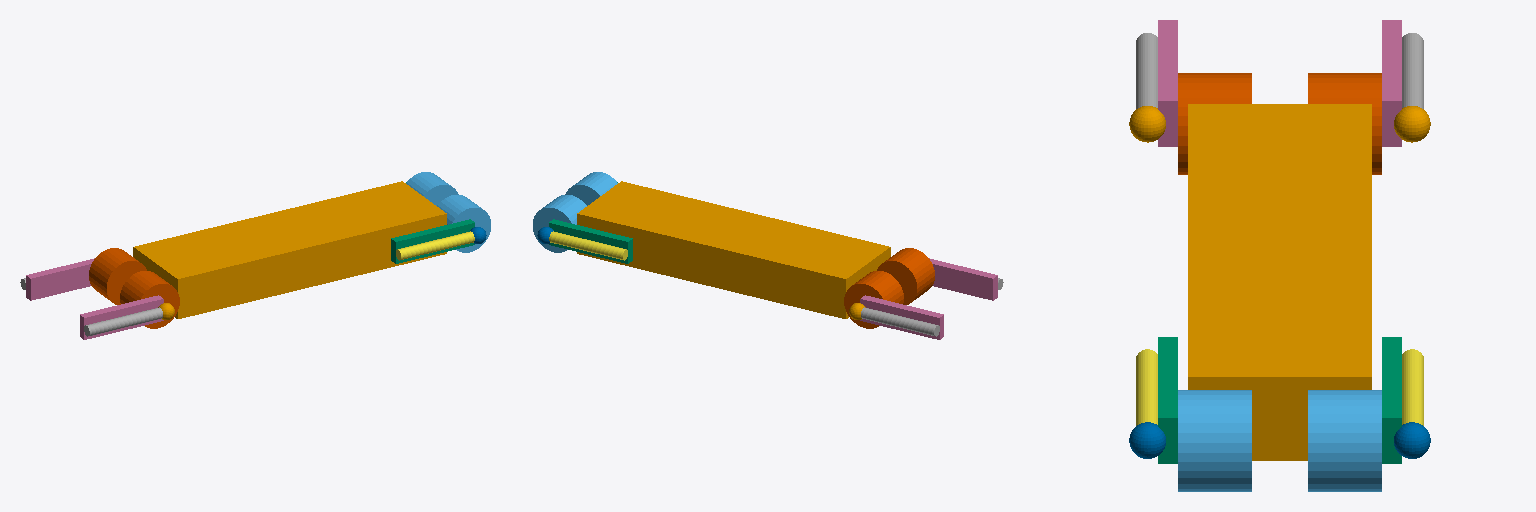
--- Render facts (derived) ---
Views: 3 orthographic renders of the robot side by side, from view 1: azimuth 30°, elevation 25°; view 2: azimuth 150°, elevation 25°; view 3: azimuth 270°, elevation 25°.
Robot: spirit — 18 links, 17 joints (12 revolute, 5 fixed); root link body; default pose: every joint at zero.
Visible links, largest first — view 1: body, hip1, upper1, hip3, upper2, upper3, hip2, hip0, lower3, lower2; view 2: body, hip3, upper3, hip1, upper0, upper1, hip0, hip2, lower1, lower0; view 3: body, hip0, hip2, hip1, hip3, upper0, upper1, upper2, upper3, lower0, lower1, lower2 (+5 smaller).
Link boxes in pixels (bbox=[...]): body: bbox=[133, 181, 446, 318]; hip1: bbox=[89, 248, 146, 304]; upper1: bbox=[26, 258, 94, 300]; hip3: bbox=[120, 271, 179, 328]; upper2: bbox=[391, 219, 474, 263]; upper3: bbox=[80, 295, 163, 339]; hip2: bbox=[437, 195, 490, 252]; hip0: bbox=[406, 172, 458, 205]; lower3: bbox=[84, 307, 162, 336]; lower2: bbox=[396, 231, 474, 260]; body: bbox=[577, 181, 890, 318]; hip3: bbox=[877, 248, 934, 304]; upper3: bbox=[929, 258, 997, 300]; hip1: bbox=[844, 271, 903, 328]; upper0: bbox=[549, 219, 632, 263]; upper1: bbox=[860, 295, 943, 339]; hip0: bbox=[533, 195, 586, 252]; hip2: bbox=[565, 172, 617, 205]; lower1: bbox=[861, 307, 939, 336]; lower0: bbox=[549, 231, 627, 260]; body: bbox=[1188, 104, 1371, 460]; hip0: bbox=[1308, 390, 1381, 491]; hip2: bbox=[1178, 390, 1251, 491]; hip1: bbox=[1308, 73, 1381, 174]; hip3: bbox=[1178, 73, 1251, 174]; upper0: bbox=[1382, 337, 1401, 463]; upper1: bbox=[1382, 20, 1401, 146]; upper2: bbox=[1158, 337, 1177, 463]; upper3: bbox=[1158, 20, 1177, 146]; lower0: bbox=[1402, 349, 1423, 425]; lower1: bbox=[1402, 33, 1423, 108]; lower2: bbox=[1136, 349, 1157, 425].
Bounding box of the posed robot: 1.07 × 0.326 × 0.11 m (x, y, z).
Geometry: primitives only (box / cylinder / sphere), no mesh files.

The robot description file, URDF, robot "spirit":
<?xml version="1.0" encoding="utf-8"?>
<robot name="spirit">
  <!-- Body -->
  <link name="body">
    <visual>
      <origin rpy="0 0 0" xyz="0 0 0"/>
      <geometry>
        <box size="0.7 0.2 0.1"/>
      </geometry>
      <material name="darkgray"/>
    </visual>
    <inertial>
      <mass value="5.75"/>
      <!-- Uniform box -->
      <!-- <inertia ixx="1/12*${bodyMass}*(${bodyWidth}*${bodyWidth} + ${bodyHeight}*${bodyHeight})"  ixy="0"  ixz="0" iyy="1/12*${bodyMass}*(${bodyLength}*${bodyLength} + ${bodyHeight}*${bodyHeight})" iyz="0" izz="1/12*${bodyMass}*(${bodyLength}*${bodyLength} + ${bodyWidth}*${bodyWidth})"/> -->
      <inertia ixx="0.05" ixy="0" ixz="0" iyy="0.1" iyz="0" izz="0.1"/>
    </inertial>
    <!-- Just copy geometry for collision -->
    <collision>
      <origin rpy="0 0 0" xyz="0 0 0"/>
      <geometry>
        <box size="0.7 0.2 0.1"/>
        <!-- <uri>model:///meshes/Spirit40_Body_Mesh_transformed.stl</uri> -->
      </geometry>
    </collision>
  </link>
  <gazebo reference="body">
    <material>Gazebo/Black</material>
    <gravity>true</gravity>
  </gazebo>
  <!-- Hip motor -->
  <link name="hip0">
    <visual>
      <origin rpy="1.5707963268 0 0" xyz="0 0.028 0"/>
      <geometry>
        <cylinder length="0.08" radius="0.055"/>
      </geometry>
    </visual>
    <collision>
      <origin rpy="1.5707963268 0 0" xyz="0 0.028 0"/>
      <geometry>
        Radius
					
        <!-- <cylinder length="${podLength}" radius="${podRadius}"/> -->
        <box size="0.11 0.11 0.08"/>
      </geometry>
    </collision>
    <inertial>
      <!-- <origin rpy="1.5707963268 0 0" xyz="0 0.028 0"/> -->
      <origin rpy="0 0 0" xyz="0 0.028 0"/>
      <mass value="0.575"/>
      <!-- <inertia ixx="1/12*${podMass}*${podLength}*${podLength} + 1/4*${podMass}*${podRadius}*${podRadius}"  ixy="0"  ixz="0" iyy="1/12*${podMass}*${podLength}*${podLength} + 1/4*${podMass}*${podRadius}*${podRadius}" iyz="0" izz="1/2*${podMass}*${podRadius}*$
				{podRadius}" /> -->
      <inertia ixx="0.00066963541" ixy="0" ixz="0" iyy="0.00066963541" iyz="0" izz="0.0008696875"/>
    </inertial>
  </link>
  <gazebo reference="hip0">
    <material>Gazebo/Grey</material>
  </gazebo>
  <!-- Upper leg -->
  <link name="upper0">
    <visual>
      <origin rpy="0 0 0" xyz="-0.103 -0.022 0"/>
      <geometry>
        <box size="0.206 0.022 0.055"/>
      </geometry>
      <material name="silver"/>
    </visual>
    <collision>
      <origin rpy="0 0 0" xyz="-0.103 -0.022 0"/>
      <geometry>
        <box size="0.206 0.022 0.055"/>
      </geometry>
    </collision>
    <inertial>
      <origin rpy="0 0 0" xyz="-0.103 -0.022 0"/>
      <mass value="0.775"/>
      <inertia ixx="5e-05" ixy="0" ixz="0" iyy="0.001" iyz="0" izz="0.001"/>
    </inertial>
  </link>
  <gazebo reference="upper0">
    <material>Gazebo/DarkGrey</material>
  </gazebo>
  <!-- Abduction joint. Joint names are: 8 9 10 11 -->
  <joint name="8" type="revolute">
    <parent link="body"/>
    <child link="hip0"/>
    <axis xyz="1 0 0"/>
    <origin xyz="0.405 0.042 0"/>
    <!-- <origin xyz="${front * dx} ${left * dy} 0"/> -->
    <!-- <origin xyz="${front *bodyLength/2+front * podRadius} ${left *bodyWidth/2} 0"/> -->
    <limit effort="40" lower="-0.707" upper="0.707" velocity="30"/>
    <dynamics damping="0.0" friction="0.0"/>
  </joint>
  <!-- Transmission elements required for Gazebo -->
  <transmission name="transmission_8">
    <type>transmission_interface/SimpleTransmission</type>
    <joint name="8">
      <hardwareInterface>hardware_interface/EffortJointInterface</hardwareInterface>
    </joint>
    <actuator name="motor_8">
      <hardwareInterface>EffortJointInterface</hardwareInterface>
      <mechanicalReduction>1</mechanicalReduction>
    </actuator>
  </transmission>
  <!-- Hip joint. (Motor to upper leg). Joint names are: 0 2 4 6 -->
  <joint name="0" type="revolute">
    <parent link="hip0"/>
    <child link="upper0"/>
    <axis xyz="0 -1 0"/>
    <origin xyz="0 0.10098 0"/>
    <!--  rpy="0 -0.3 0" -->
    <limit effort="40" lower="-6.28318530718" upper="6.28318530718" velocity="30"/>
    <dynamics damping="0.0" friction="0.0"/>
  </joint>
  <!-- Transmission elements required for Gazebo -->
  <transmission name="transmission_0">
    <type>transmission_interface/SimpleTransmission</type>
    <joint name="0">
      <hardwareInterface>hardware_interface/EffortJointInterface</hardwareInterface>
    </joint>
    <actuator name="motor_0">
      <hardwareInterface>EffortJointInterface</hardwareInterface>
      <mechanicalReduction>1</mechanicalReduction>
    </actuator>
  </transmission>
  <!-- Lower leg -->
  <link name="lower0">
    <visual>
      <origin rpy="0 1.5707963268 0" xyz="0.103 0 0"/>
      <geometry>
        <cylinder length="0.206" radius="0.013"/>
      </geometry>
      <material name="darkgray"/>
    </visual>
    <collision>
      <origin rpy="0 1.5707963268 0" xyz="0.103 0 0"/>
      <geometry>
        <cylinder length="0.206" radius="0.013"/>
      </geometry>
    </collision>
    <inertial>
      <!-- <origin rpy="0 1.5707963268 0" xyz="0.103 0 0"/> -->
      <origin rpy="0 0 0" xyz="0.103 0 0"/>
      <mass value="0.075"/>
      <inertia ixx="5e-06" ixy="0" ixz="0" iyy="0.0001" iyz="0" izz="0.0001"/>
    </inertial>
  </link>
  <gazebo reference="lower0">
    <material>Gazebo/Grey</material>
  </gazebo>
  <!-- Knee joint. Joint names are: 1 3 5 7 -->
  <joint name="1" type="revolute">
    <parent link="upper0"/>
    <child link="lower0"/>
    <axis xyz="0 1 0"/>
    <origin xyz="-0.206 0 0"/>
    <!--rpy="0 0.5 0"-->
    <limit effort="40" lower="0" upper="3.14159265359" velocity="30"/>
    <dynamics damping="0.0" friction="0.0"/>
  </joint>
  <!-- Transmission elements required for Gazebo -->
  <transmission name="transmission_1">
    <type>transmission_interface/SimpleTransmission</type>
    <joint name="1">
      <hardwareInterface>hardware_interface/EffortJointInterface</hardwareInterface>
    </joint>
    <actuator name="motor_1">
      <hardwareInterface>EffortJointInterface</hardwareInterface>
      <mechanicalReduction>1</mechanicalReduction>
    </actuator>
  </transmission>
  <!-- Toe -->
  <link name="toe0">
    <contact>
      <friction_anchor/>
      <stiffness value="30000.0"/>
      <damping value="1000.0"/>
      <spinning_friction value="0.3"/>
      <lateral_friction value="50.0"/>
    </contact>
    <visual>
      <origin rpy="0 0 0" xyz="0 0 0"/>
      <geometry>
        <sphere radius="0.02"/>
      </geometry>
      <material name="darkgray"/>
    </visual>
    <collision>
      <origin rpy="0 0 0" xyz="0 0 0"/>
      <geometry>
        <sphere radius="0.02"/>
      </geometry>
    </collision>
    <inertial>
      <mass value="0.015"/>
      <inertia ixx="0.000025" ixy="0" ixz="0" iyy="0.000025" iyz="0" izz="0.000025"/>
      <!-- <inertia ixx="2/5*${toeMass}*${toeRadius}*${toeRadius}"  ixy="0"  ixz="0" iyy="2/5*${toeMass}*${toeRadius}*${toeRadius}" iyz="0" izz="2/5*${toeMass}*${toeRadius}*${toeRadius}" /> -->
    </inertial>
  </link>
  <gazebo reference="toe0">
    <material>Gazebo/Black</material>
    <collision>
      <surface>
        <bounce>
          <restitution_coefficient>0</restitution_coefficient>
          <threshold>1e+06</threshold>
        </bounce>
        <friction>
          <torsional>
            <coefficient>0.3</coefficient>
          </torsional>
          <ode>
            <mu>100.0</mu>
            <mu2>50.0</mu2>
          </ode>
          <bullet>
            <rolling_friction>0.3</rolling_friction>
            <friction2>50.0</friction2>
          </bullet>
        </friction>
        <contact>
          <bullet>
            <kp>30000.0</kp>
            <kd>1000.0</kd>
          </bullet>
          <ode>
            <kp>30000.0</kp>
            <kd>1000.0</kd>
          </ode>
        </contact>
      </surface>
    </collision>
    <sensor name="toe0_contact" type="contact">
      <plugin filename="libgazebo_ros_bumper.so" name="toe0_plugin">
        <alwaysOn>1</alwaysOn>
        <updateRate>1000</updateRate>
        <bumperTopicName>gazebo/toe0_contact_state</bumperTopicName>
        <frameName>world</frameName>
        <robotNamespace>/</robotNamespace>
      </plugin>
      <contact>
        <collision>toe0_collision</collision>
        <topic>__default_topic__</topic>
      </contact>
      <update_rate>1000</update_rate>
    </sensor>
  </gazebo>
  <!-- Hip motor -->
  <link name="hip1">
    <visual>
      <origin rpy="1.5707963268 0 0" xyz="0 0.028 0"/>
      <geometry>
        <cylinder length="0.08" radius="0.055"/>
      </geometry>
    </visual>
    <collision>
      <origin rpy="1.5707963268 0 0" xyz="0 0.028 0"/>
      <geometry>
        Radius
					
        <!-- <cylinder length="${podLength}" radius="${podRadius}"/> -->
        <box size="0.11 0.11 0.08"/>
      </geometry>
    </collision>
    <inertial>
      <origin rpy="0 0 0" xyz="0 0.028 0"/>
      <!-- <origin rpy="1.5707963268 0 0" xyz="0 0.028 0"/> -->
      <mass value="0.575"/>
      <!-- <inertia ixx="1/12*${podMass}*${podLength}*${podLength} + 1/4*${podMass}*${podRadius}*${podRadius}"  ixy="0"  ixz="0" iyy="1/12*${podMass}*${podLength}*${podLength} + 1/4*${podMass}*${podRadius}*${podRadius}" iyz="0" izz="1/2*${podMass}*${podRadius}*$
				{podRadius}" /> -->
      <inertia ixx="0.00066963541" ixy="0" ixz="0" iyy="0.00066963541" iyz="0" izz="0.0008696875"/>
    </inertial>
  </link>
  <gazebo reference="hip1">
    <material>Gazebo/Grey</material>
  </gazebo>
  <!-- Upper leg -->
  <link name="upper1">
    <visual>
      <origin rpy="0 0 0" xyz="-0.103 -0.022 0"/>
      <geometry>
        <box size="0.206 0.022 0.055"/>
      </geometry>
      <material name="silver"/>
    </visual>
    <collision>
      <origin rpy="0 0 0" xyz="-0.103 -0.022 0"/>
      <geometry>
        <box size="0.206 0.022 0.055"/>
      </geometry>
    </collision>
    <inertial>
      <origin rpy="0 0 0" xyz="-0.103 -0.022 0"/>
      <mass value="0.775"/>
      <inertia ixx="5e-05" ixy="0" ixz="0" iyy="0.001" iyz="0" izz="0.001"/>
    </inertial>
  </link>
  <gazebo reference="upper1">
    <material>Gazebo/DarkGrey</material>
  </gazebo>
  <!-- Abduction joint. Joint names are: 8 9 10 11 -->
  <joint name="9" type="revolute">
    <parent link="body"/>
    <child link="hip1"/>
    <axis xyz="1 0 0"/>
    <origin xyz="-0.405 0.042 0"/>
    <!-- <origin xyz="${front * dx} ${left * dy} 0"/> -->
    <!-- <origin xyz="${front *bodyLength/2+front * podRadius} ${left *bodyWidth/2} 0"/> -->
    <limit effort="40" lower="-0.707" upper="0.707" velocity="30"/>
    <dynamics damping="0.0" friction="0.0"/>
  </joint>
  <!-- Transmission elements required for Gazebo -->
  <transmission name="transmission_9">
    <type>transmission_interface/SimpleTransmission</type>
    <joint name="9">
      <hardwareInterface>hardware_interface/EffortJointInterface</hardwareInterface>
    </joint>
    <actuator name="motor_9">
      <hardwareInterface>EffortJointInterface</hardwareInterface>
      <mechanicalReduction>1</mechanicalReduction>
    </actuator>
  </transmission>
  <!-- Hip joint. (Motor to upper leg). Joint names are: 0 2 4 6 -->
  <joint name="2" type="revolute">
    <parent link="hip1"/>
    <child link="upper1"/>
    <axis xyz="0 -1 0"/>
    <origin xyz="0 0.10098 0"/>
    <!--  rpy="0 -0.3 0" -->
    <limit effort="40" lower="-6.28318530718" upper="6.28318530718" velocity="30"/>
    <dynamics damping="0.0" friction="0.0"/>
  </joint>
  <!-- Transmission elements required for Gazebo -->
  <transmission name="transmission_2">
    <type>transmission_interface/SimpleTransmission</type>
    <joint name="2">
      <hardwareInterface>hardware_interface/EffortJointInterface</hardwareInterface>
    </joint>
    <actuator name="motor_2">
      <hardwareInterface>EffortJointInterface</hardwareInterface>
      <mechanicalReduction>1</mechanicalReduction>
    </actuator>
  </transmission>
  <!-- Lower leg -->
  <link name="lower1">
    <visual>
      <origin rpy="0 1.5707963268 0" xyz="0.103 0 0"/>
      <geometry>
        <cylinder length="0.206" radius="0.013"/>
      </geometry>
      <material name="darkgray"/>
    </visual>
    <collision>
      <origin rpy="0 1.5707963268 0" xyz="0.103 0 0"/>
      <geometry>
        <cylinder length="0.206" radius="0.013"/>
      </geometry>
    </collision>
    <inertial>
      <!-- <origin rpy="0 1.5707963268 0" xyz="0.103 0 0"/> -->
      <origin rpy="0 0 0" xyz="0.103 0 0"/>
      <mass value="0.075"/>
      <inertia ixx="5e-06" ixy="0" ixz="0" iyy="0.0001" iyz="0" izz="0.0001"/>
    </inertial>
  </link>
  <gazebo reference="lower1">
    <material>Gazebo/Grey</material>
  </gazebo>
  <!-- Knee joint. Joint names are: 1 3 5 7 -->
  <joint name="3" type="revolute">
    <parent link="upper1"/>
    <child link="lower1"/>
    <axis xyz="0 1 0"/>
    <origin xyz="-0.206 0 0"/>
    <!--rpy="0 0.5 0"-->
    <limit effort="40" lower="0" upper="3.14159265359" velocity="30"/>
    <dynamics damping="0.0" friction="0.0"/>
  </joint>
  <!-- Transmission elements required for Gazebo -->
  <transmission name="transmission_3">
    <type>transmission_interface/SimpleTransmission</type>
    <joint name="3">
      <hardwareInterface>hardware_interface/EffortJointInterface</hardwareInterface>
    </joint>
    <actuator name="motor_3">
      <hardwareInterface>EffortJointInterface</hardwareInterface>
      <mechanicalReduction>1</mechanicalReduction>
    </actuator>
  </transmission>
  <!-- Toe -->
  <link name="toe1">
    <contact>
      <friction_anchor/>
      <stiffness value="30000.0"/>
      <damping value="1000.0"/>
      <spinning_friction value="0.3"/>
      <lateral_friction value="50.0"/>
    </contact>
    <visual>
      <origin rpy="0 0 0" xyz="0 0 0"/>
      <geometry>
        <sphere radius="0.02"/>
      </geometry>
      <material name="darkgray"/>
    </visual>
    <collision>
      <origin rpy="0 0 0" xyz="0 0 0"/>
      <geometry>
        <sphere radius="0.02"/>
      </geometry>
    </collision>
    <inertial>
      <mass value="0.015"/>
      <inertia ixx="0.000025" ixy="0" ixz="0" iyy="0.000025" iyz="0" izz="0.000025"/>
      <!-- <inertia ixx="2/5*${toeMass}*${toeRadius}*${toeRadius}"  ixy="0"  ixz="0" iyy="2/5*${toeMass}*${toeRadius}*${toeRadius}" iyz="0" izz="2/5*${toeMass}*${toeRadius}*${toeRadius}" /> -->
    </inertial>
  </link>
  <gazebo reference="toe1">
    <material>Gazebo/Black</material>
    <collision>
      <surface>
        <bounce>
          <restitution_coefficient>0</restitution_coefficient>
          <threshold>1e+06</threshold>
        </bounce>
        <friction>
          <torsional>
            <coefficient>0.3</coefficient>
          </torsional>
          <ode>
            <mu>100.0</mu>
            <mu2>50.0</mu2>
          </ode>
          <bullet>
            <rolling_friction>0.3</rolling_friction>
            <friction2>50.0</friction2>
          </bullet>
        </friction>
        <contact>
          <bullet>
            <kp>30000.0</kp>
            <kd>1000.0</kd>
          </bullet>
          <ode>
            <kp>30000.0</kp>
            <kd>1000.0</kd>
          </ode>
        </contact>
      </surface>
    </collision>
    <sensor name="toe1_contact" type="contact">
      <plugin filename="libgazebo_ros_bumper.so" name="toe1_plugin">
        <alwaysOn>1</alwaysOn>
        <updateRate>1000</updateRate>
        <bumperTopicName>gazebo/toe1_contact_state</bumperTopicName>
        <frameName>world</frameName>
        <robotNamespace>/</robotNamespace>
      </plugin>
      <contact>
        <collision>toe1_collision</collision>
        <topic>__default_topic__</topic>
      </contact>
      <update_rate>1000</update_rate>
    </sensor>
  </gazebo>
  <!-- Hip motor -->
  <link name="hip2">
    <visual>
      <origin rpy="1.5707963268 0 0" xyz="0 -0.028 0"/>
      <geometry>
        <cylinder length="0.08" radius="0.055"/>
      </geometry>
    </visual>
    <collision>
      <origin rpy="1.5707963268 0 0" xyz="0 -0.028 0"/>
      <geometry>
        Radius
					
        <!-- <cylinder length="${podLength}" radius="${podRadius}"/> -->
        <box size="0.11 0.11 0.08"/>
      </geometry>
    </collision>
    <inertial>
      <!-- <origin rpy="1.5707963268 0 0" xyz="0 -0.028 0"/> -->
      <origin rpy="0 0 0" xyz="0 -0.028 0"/>
      <mass value="0.575"/>
      <!-- <inertia ixx="1/12*${podMass}*${podLength}*${podLength} + 1/4*${podMass}*${podRadius}*${podRadius}"  ixy="0"  ixz="0" iyy="1/12*${podMass}*${podLength}*${podLength} + 1/4*${podMass}*${podRadius}*${podRadius}" iyz="0" izz="1/2*${podMass}*${podRadius}*$
				{podRadius}" /> -->
      <inertia ixx="0.00066963541" ixy="0" ixz="0" iyy="0.00066963541" iyz="0" izz="0.0008696875"/>
    </inertial>
  </link>
  <gazebo reference="hip2">
    <material>Gazebo/Grey</material>
  </gazebo>
  <!-- Upper leg -->
  <link name="upper2">
    <visual>
      <origin rpy="0 0 0" xyz="-0.103 0.022 0"/>
      <geometry>
        <box size="0.206 0.022 0.055"/>
      </geometry>
      <material name="silver"/>
    </visual>
    <collision>
      <origin rpy="0 0 0" xyz="-0.103 0.022 0"/>
      <geometry>
        <box size="0.206 0.022 0.055"/>
      </geometry>
    </collision>
    <inertial>
      <origin rpy="0 0 0" xyz="-0.103 0.022 0"/>
      <mass value="0.775"/>
      <inertia ixx="5e-05" ixy="0" ixz="0" iyy="0.001" iyz="0" izz="0.001"/>
    </inertial>
  </link>
  <gazebo reference="upper2">
    <material>Gazebo/DarkGrey</material>
  </gazebo>
  <!-- Abduction joint. Joint names are: 8 9 10 11 -->
  <joint name="10" type="revolute">
    <parent link="body"/>
    <child link="hip2"/>
    <axis xyz="1 0 0"/>
    <origin xyz="0.405 -0.042 0"/>
    <!-- <origin xyz="${front * dx} ${left * dy} 0"/> -->
    <!-- <origin xyz="${front *bodyLength/2+front * podRadius} ${left *bodyWidth/2} 0"/> -->
    <limit effort="40" lower="-0.707" upper="0.707" velocity="30"/>
    <dynamics damping="0.0" friction="0.0"/>
  </joint>
  <!-- Transmission elements required for Gazebo -->
  <transmission name="transmission_10">
    <type>transmission_interface/SimpleTransmission</type>
    <joint name="10">
      <hardwareInterface>hardware_interface/EffortJointInterface</hardwareInterface>
    </joint>
    <actuator name="motor_10">
      <hardwareInterface>EffortJointInterface</hardwareInterface>
      <mechanicalReduction>1</mechanicalReduction>
    </actuator>
  </transmission>
  <!-- Hip joint. (Motor to upper leg). Joint names are: 0 2 4 6 -->
  <joint name="4" type="revolute">
    <parent link="hip2"/>
    <child link="upper2"/>
    <axis xyz="0 -1 0"/>
    <origin xyz="0 -0.10098 0"/>
    <!--  rpy="0 -0.3 0" -->
    <limit effort="40" lower="-6.28318530718" upper="6.28318530718" velocity="30"/>
    <dynamics damping="0.0" friction="0.0"/>
  </joint>
  <!-- Transmission elements required for Gazebo -->
  <transmission name="transmission_4">
    <type>transmission_interface/SimpleTransmission</type>
    <joint name="4">
      <hardwareInterface>hardware_interface/EffortJointInterface</hardwareInterface>
    </joint>
    <actuator name="motor_4">
      <hardwareInterface>EffortJointInterface</hardwareInterface>
      <mechanicalReduction>1</mechanicalReduction>
    </actuator>
  </transmission>
  <!-- Lower leg -->
  <link name="lower2">
    <visual>
      <origin rpy="0 1.5707963268 0" xyz="0.103 0 0"/>
      <geometry>
        <cylinder length="0.206" radius="0.013"/>
      </geometry>
      <material name="darkgray"/>
    </visual>
    <collision>
      <origin rpy="0 1.5707963268 0" xyz="0.103 0 0"/>
      <geometry>
        <cylinder length="0.206" radius="0.013"/>
      </geometry>
    </collision>
    <inertial>
      <!-- <origin rpy="0 1.5707963268 0" xyz="0.103 0 0"/> -->
      <origin rpy="0 0 0" xyz="0.103 0 0"/>
      <mass value="0.075"/>
      <inertia ixx="5e-06" ixy="0" ixz="0" iyy="0.0001" iyz="0" izz="0.0001"/>
    </inertial>
  </link>
  <gazebo reference="lower2">
    <material>Gazebo/Grey</material>
  </gazebo>
  <!-- Knee joint. Joint names are: 1 3 5 7 -->
  <joint name="5" type="revolute">
    <parent link="upper2"/>
    <child link="lower2"/>
    <axis xyz="0 1 0"/>
    <origin xyz="-0.206 0 0"/>
    <!--rpy="0 0.5 0"-->
    <limit effort="40" lower="0" upper="3.14159265359" velocity="30"/>
    <dynamics damping="0.0" friction="0.0"/>
  </joint>
  <!-- Transmission elements required for Gazebo -->
  <transmission name="transmission_5">
    <type>transmission_interface/SimpleTransmission</type>
    <joint name="5">
      <hardwareInterface>hardware_interface/EffortJointInterface</hardwareInterface>
    </joint>
    <actuator name="motor_5">
      <hardwareInterface>EffortJointInterface</hardwareInterface>
      <mechanicalReduction>1</mechanicalReduction>
    </actuator>
  </transmission>
  <!-- Toe -->
  <link name="toe2">
    <contact>
      <friction_anchor/>
      <stiffness value="30000.0"/>
      <damping value="1000.0"/>
      <spinning_friction value="0.3"/>
      <lateral_friction value="50.0"/>
    </contact>
    <visual>
      <origin rpy="0 0 0" xyz="0 0 0"/>
      <geometry>
        <sphere radius="0.02"/>
      </geometry>
      <material name="darkgray"/>
    </visual>
    <collision>
      <origin rpy="0 0 0" xyz="0 0 0"/>
      <geometry>
        <sphere radius="0.02"/>
      </geometry>
    </collision>
    <inertial>
      <mass value="0.015"/>
      <inertia ixx="0.000025" ixy="0" ixz="0" iyy="0.000025" iyz="0" izz="0.000025"/>
      <!-- <inertia ixx="2/5*${toeMass}*${toeRadius}*${toeRadius}"  ixy="0"  ixz="0" iyy="2/5*${toeMass}*${toeRadius}*${toeRadius}" iyz="0" izz="2/5*${toeMass}*${toeRadius}*${toeRadius}" /> -->
    </inertial>
  </link>
  <gazebo reference="toe2">
    <material>Gazebo/Black</material>
    <collision>
      <surface>
        <bounce>
          <restitution_coefficient>0</restitution_coefficient>
          <threshold>1e+06</threshold>
        </bounce>
        <friction>
          <torsional>
            <coefficient>0.3</coefficient>
          </torsional>
          <ode>
            <mu>100.0</mu>
            <mu2>50.0</mu2>
          </ode>
          <bullet>
            <rolling_friction>0.3</rolling_friction>
            <friction2>50.0</friction2>
          </bullet>
        </friction>
        <contact>
          <bullet>
            <kp>30000.0</kp>
            <kd>1000.0</kd>
          </bullet>
          <ode>
            <kp>30000.0</kp>
            <kd>1000.0</kd>
          </ode>
        </contact>
      </surface>
    </collision>
    <sensor name="toe2_contact" type="contact">
      <plugin filename="libgazebo_ros_bumper.so" name="toe2_plugin">
        <alwaysOn>1</alwaysOn>
        <updateRate>1000</updateRate>
        <bumperTopicName>gazebo/toe2_contact_state</bumperTopicName>
        <frameName>world</frameName>
        <robotNamespace>/</robotNamespace>
      </plugin>
      <contact>
        <collision>toe2_collision</collision>
        <topic>__default_topic__</topic>
      </contact>
      <update_rate>1000</update_rate>
    </sensor>
  </gazebo>
  <!-- Hip motor -->
  <link name="hip3">
    <visual>
      <origin rpy="1.5707963268 0 0" xyz="0 -0.028 0"/>
      <geometry>
        <cylinder length="0.08" radius="0.055"/>
      </geometry>
    </visual>
    <collision>
      <origin rpy="1.5707963268 0 0" xyz="0 -0.028 0"/>
      <geometry>
        Radius
					
        <!-- <cylinder length="${podLength}" radius="${podRadius}"/> -->
        <box size="0.11 0.11 0.08"/>
      </geometry>
    </collision>
    <inertial>
      <!-- <origin rpy="1.5707963268 0 0" xyz="0 -0.028 0"/> -->
      <origin rpy="0 0 0" xyz="0 -0.028 0"/>
      <mass value="0.575"/>
      <!-- <inertia ixx="1/12*${podMass}*${podLength}*${podLength} + 1/4*${podMass}*${podRadius}*${podRadius}"  ixy="0"  ixz="0" iyy="1/12*${podMass}*${podLength}*${podLength} + 1/4*${podMass}*${podRadius}*${podRadius}" iyz="0" izz="1/2*${podMass}*${podRadius}*$
				{podRadius}" /> -->
      <inertia ixx="0.00066963541" ixy="0" ixz="0" iyy="0.00066963541" iyz="0" izz="0.0008696875"/>
    </inertial>
  </link>
  <gazebo reference="hip3">
    <material>Gazebo/Grey</material>
  </gazebo>
  <!-- Upper leg -->
  <link name="upper3">
    <visual>
      <origin rpy="0 0 0" xyz="-0.103 0.022 0"/>
      <geometry>
        <box size="0.206 0.022 0.055"/>
      </geometry>
      <material name="silver"/>
    </visual>
    <collision>
      <origin rpy="0 0 0" xyz="-0.103 0.022 0"/>
      <geometry>
        <box size="0.206 0.022 0.055"/>
      </geometry>
    </collision>
    <inertial>
      <origin rpy="0 0 0" xyz="-0.103 0.022 0"/>
      <mass value="0.775"/>
      <inertia ixx="5e-05" ixy="0" ixz="0" iyy="0.001" iyz="0" izz="0.001"/>
    </inertial>
  </link>
  <gazebo reference="upper3">
    <material>Gazebo/DarkGrey</material>
  </gazebo>
  <!-- Abduction joint. Joint names are: 8 9 10 11 -->
  <joint name="11" type="revolute">
    <parent link="body"/>
    <child link="hip3"/>
    <axis xyz="1 0 0"/>
    <origin xyz="-0.405 -0.042 0"/>
    <!-- <origin xyz="${front * dx} ${left * dy} 0"/> -->
    <!-- <origin xyz="${front *bodyLength/2+front * podRadius} ${left *bodyWidth/2} 0"/> -->
    <limit effort="40" lower="-0.707" upper="0.707" velocity="30"/>
    <dynamics damping="0.0" friction="0.0"/>
  </joint>
  <!-- Transmission elements required for Gazebo -->
  <transmission name="transmission_11">
    <type>transmission_interface/SimpleTransmission</type>
    <joint name="11">
      <hardwareInterface>hardware_interface/EffortJointInterface</hardwareInterface>
    </joint>
    <actuator name="motor_11">
      <hardwareInterface>EffortJointInterface</hardwareInterface>
      <mechanicalReduction>1</mechanicalReduction>
    </actuator>
  </transmission>
  <!-- Hip joint. (Motor to upper leg). Joint names are: 0 2 4 6 -->
  <joint name="6" type="revolute">
    <parent link="hip3"/>
    <child link="upper3"/>
    <axis xyz="0 -1 0"/>
    <origin xyz="0 -0.10098 0"/>
    <!--  rpy="0 -0.3 0" -->
    <limit effort="40" lower="-6.28318530718" upper="6.28318530718" velocity="30"/>
    <dynamics damping="0.0" friction="0.0"/>
  </joint>
  <!-- Transmission elements required for Gazebo -->
  <transmission name="transmission_6">
    <type>transmission_interface/SimpleTransmission</type>
    <joint name="6">
      <hardwareInterface>hardware_interface/EffortJointInterface</hardwareInterface>
    </joint>
    <actuator name="motor_6">
      <hardwareInterface>EffortJointInterface</hardwareInterface>
      <mechanicalReduction>1</mechanicalReduction>
    </actuator>
  </transmission>
  <!-- Lower leg -->
  <link name="lower3">
    <visual>
      <origin rpy="0 1.5707963268 0" xyz="0.103 0 0"/>
      <geometry>
        <cylinder length="0.206" radius="0.013"/>
      </geometry>
      <material name="darkgray"/>
    </visual>
    <collision>
      <origin rpy="0 1.5707963268 0" xyz="0.103 0 0"/>
      <geometry>
        <cylinder length="0.206" radius="0.013"/>
      </geometry>
    </collision>
    <inertial>
      <!-- <origin rpy="0 1.5707963268 0" xyz="0.103 0 0"/> -->
      <origin rpy="0 0 0" xyz="0.103 0 0"/>
      <mass value="0.075"/>
      <inertia ixx="5e-06" ixy="0" ixz="0" iyy="0.0001" iyz="0" izz="0.0001"/>
    </inertial>
  </link>
  <gazebo reference="lower3">
    <material>Gazebo/Grey</material>
  </gazebo>
  <!-- Knee joint. Joint names are: 1 3 5 7 -->
  <joint name="7" type="revolute">
    <parent link="upper3"/>
    <child link="lower3"/>
    <axis xyz="0 1 0"/>
    <origin xyz="-0.206 0 0"/>
    <!--rpy="0 0.5 0"-->
    <limit effort="40" lower="0" upper="3.14159265359" velocity="30"/>
    <dynamics damping="0.0" friction="0.0"/>
  </joint>
  <!-- Transmission elements required for Gazebo -->
  <transmission name="transmission_7">
    <type>transmission_interface/SimpleTransmission</type>
    <joint name="7">
      <hardwareInterface>hardware_interface/EffortJointInterface</hardwareInterface>
    </joint>
    <actuator name="motor_7">
      <hardwareInterface>EffortJointInterface</hardwareInterface>
      <mechanicalReduction>1</mechanicalReduction>
    </actuator>
  </transmission>
  <!-- Toe -->
  <link name="toe3">
    <contact>
      <friction_anchor/>
      <stiffness value="30000.0"/>
      <damping value="1000.0"/>
      <spinning_friction value="0.3"/>
      <lateral_friction value="50.0"/>
    </contact>
    <visual>
      <origin rpy="0 0 0" xyz="0 0 0"/>
      <geometry>
        <sphere radius="0.02"/>
      </geometry>
      <material name="darkgray"/>
    </visual>
    <collision>
      <origin rpy="0 0 0" xyz="0 0 0"/>
      <geometry>
        <sphere radius="0.02"/>
      </geometry>
    </collision>
    <inertial>
      <mass value="0.015"/>
      <inertia ixx="0.000025" ixy="0" ixz="0" iyy="0.000025" iyz="0" izz="0.000025"/>
      <!-- <inertia ixx="2/5*${toeMass}*${toeRadius}*${toeRadius}"  ixy="0"  ixz="0" iyy="2/5*${toeMass}*${toeRadius}*${toeRadius}" iyz="0" izz="2/5*${toeMass}*${toeRadius}*${toeRadius}" /> -->
    </inertial>
  </link>
  <gazebo reference="toe3">
    <material>Gazebo/Black</material>
    <collision>
      <surface>
        <bounce>
          <restitution_coefficient>0</restitution_coefficient>
          <threshold>1e+06</threshold>
        </bounce>
        <friction>
          <torsional>
            <coefficient>0.3</coefficient>
          </torsional>
          <ode>
            <mu>100.0</mu>
            <mu2>50.0</mu2>
          </ode>
          <bullet>
            <rolling_friction>0.3</rolling_friction>
            <friction2>50.0</friction2>
          </bullet>
        </friction>
        <contact>
          <bullet>
            <kp>30000.0</kp>
            <kd>1000.0</kd>
          </bullet>
          <ode>
            <kp>30000.0</kp>
            <kd>1000.0</kd>
          </ode>
        </contact>
      </surface>
    </collision>
    <sensor name="toe3_contact" type="contact">
      <plugin filename="libgazebo_ros_bumper.so" name="toe3_plugin">
        <alwaysOn>1</alwaysOn>
        <updateRate>1000</updateRate>
        <bumperTopicName>gazebo/toe3_contact_state</bumperTopicName>
        <frameName>world</frameName>
        <robotNamespace>/</robotNamespace>
      </plugin>
      <contact>
        <collision>toe3_collision</collision>
        <topic>__default_topic__</topic>
      </contact>
      <update_rate>1000</update_rate>
    </sensor>
  </gazebo>
  <link name="imu::link">
    <visual>
      <origin rpy="0 0 0" xyz="0 0 0"/>
      <geometry>
        <sphere radius="0.02"/>
      </geometry>
      <material name="gray"/>
    </visual>
    <inertial>
      <mass value="0.001"/>
      <inertia ixx="0.0001" ixy="0" ixz="0" iyy="0" iyz="0" izz="0"/>
    </inertial>
  </link>
  <gazebo reference="imu::link">
    <material>Gazebo/Gray</material>
    <sensor name="imu_sensor" type="imu">
      <always_on>1</always_on>
      <update_rate>100</update_rate>
      <visualize>1</visualize>
      <topic>__default_topic__</topic>
      <plugin filename="libgazebo_ros_imu_sensor.so" name="imu_plugin">
        <topicName>/mcu/state/imu</topicName>
        <bodyName>imu::link</bodyName>
        <robotNamespace>/</robotNamespace>
        <updateRateHZ>500.0</updateRateHZ>
        <gaussianNoise>0.0</gaussianNoise>
        <xyzOffset>0 0 0</xyzOffset>
        <rpyOffset>0 0 0</rpyOffset>
        <frameName>imu::link</frameName>
        <initialOrientationAsReference>0</initialOrientationAsReference>
      </plugin>
      <pose frame="">0 0 0 0 -0 0</pose>
      <imu/>
    </sensor>
  </gazebo>
  <joint name="jtoe0" type="fixed">
    <parent link="lower0"/>
    <child link="toe0"/>
    <origin xyz="0.206 0 -0.0"/>
    <dynamics damping="0.0" friction="0.0"/>
  </joint>
  <gazebo reference="jtoe0">
    <disableFixedJointLumping>1</disableFixedJointLumping>
    <preserveFixedJoint>1</preserveFixedJoint>
  </gazebo>
  <joint name="jtoe1" type="fixed">
    <parent link="lower1"/>
    <child link="toe1"/>
    <origin xyz="0.206 0 -0.0"/>
    <dynamics damping="0.0" friction="0.0"/>
  </joint>
  <gazebo reference="jtoe1">
    <disableFixedJointLumping>1</disableFixedJointLumping>
    <preserveFixedJoint>1</preserveFixedJoint>
  </gazebo>
  <joint name="jtoe2" type="fixed">
    <parent link="lower2"/>
    <child link="toe2"/>
    <origin xyz="0.206 0 -0.0"/>
    <dynamics damping="0.0" friction="0.0"/>
  </joint>
  <gazebo reference="jtoe2">
    <disableFixedJointLumping>1</disableFixedJointLumping>
    <preserveFixedJoint>1</preserveFixedJoint>
  </gazebo>
  <joint name="jtoe3" type="fixed">
    <parent link="lower3"/>
    <child link="toe3"/>
    <origin xyz="0.206 0 -0.0"/>
    <dynamics damping="0.0" friction="0.0"/>
  </joint>
  <gazebo reference="jtoe3">
    <disableFixedJointLumping>1</disableFixedJointLumping>
    <preserveFixedJoint>1</preserveFixedJoint>
  </gazebo>
  <joint name="imu_joint" type="fixed">
    <parent link="body"/>
    <child link="imu::link"/>
  </joint>
  <gazebo reference="imu_joint">
    <disableFixedJointLumping>1</disableFixedJointLumping>
    <preserveFixedJoint>1</preserveFixedJoint>
  </gazebo>
  <!--    CUSTOMIZED SECTIONS	ABOVE. NOT FROM GHOST ROBOTICS.    -->
  <!-- Add ros_control plugin -->
  <gazebo>
    <plugin filename="libgazebo_ros_control.so" name="gazebo_ros_control">
      <robotNamespace>/spirit</robotNamespace>
      <controlPeriod>0.002</controlPeriod>
    </plugin>
    <plugin filename="libground_truth_estimator.so" name="ground_truth_estimator">
      <updateRateHZ>500.0</updateRateHZ>
      <robotNamespace>/</robotNamespace>
    </plugin>
  </gazebo>
</robot>
